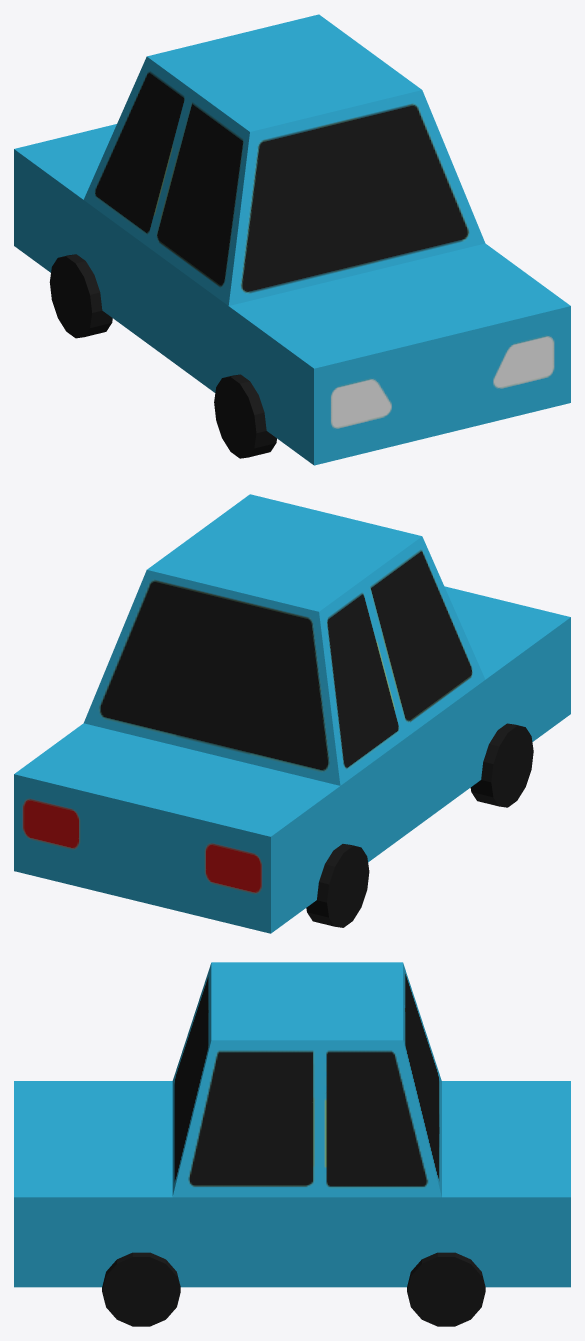
The model's file is Car_Blue.fbx.
The picture shows the model from 3 angles, top to bottom: view 1: azimuth 30°, elevation 25°; view 2: azimuth 150°, elevation 25°; view 3: azimuth 270°, elevation 25°; orthographic projection. The views are drawn at different scales.
Parts seen in each view (by area): view 1: Car_Blue; view 2: Car_Blue; view 3: Car_Blue.
Part boxes in pixels (bbox=[...]): Car_Blue: bbox=[14, 14, 570, 465]; Car_Blue: bbox=[14, 494, 570, 933]; Car_Blue: bbox=[14, 962, 570, 1326].
Size of the model in its own units: 141 by 138 by 265.
